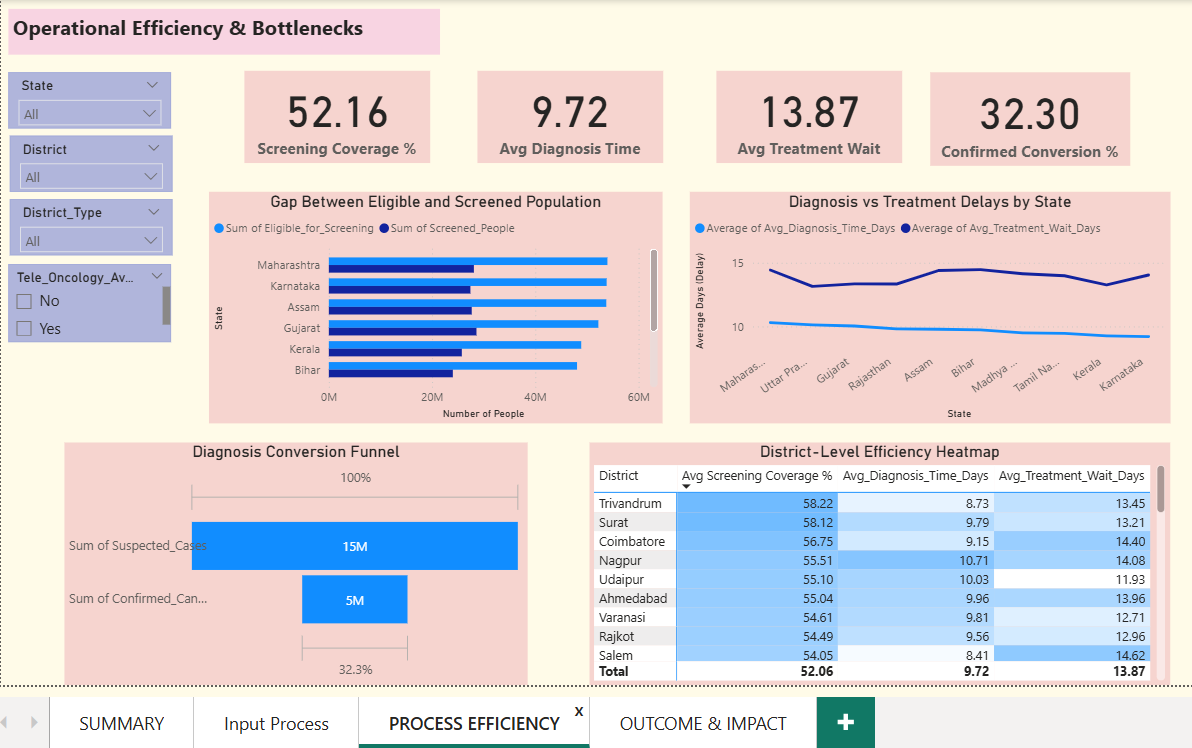

The dashboard page shown, as its layout file describes it:
{"tool":"powerbi","page":{"name":"PROCESS EFFICIENCY","canvas":[1280,720],"ordinal":2},"visuals":[{"type":"slicer","fields":{"Values":["Sheet1.State"]},"box":[8.2,76.4,171,59.1],"z":0},{"type":"slicer","fields":{"Values":["Sheet1.District"]},"box":[9.1,142.7,171,59.1],"z":1},{"type":"slicer","fields":{"Values":["Sheet1.District_Type"]},"box":[9.1,210,171,59.1],"z":2},{"type":"slicer","fields":{"Values":["Sheet1.Tele_Oncology_Available"]},"box":[8.2,278.2,171,81.8],"z":3},{"type":"textbox","box":[8.3,9.2,453.3,48.3],"z":5},{"type":"card","fields":{"Values":["Sheet1.Screening Coverage %"]},"box":[255,75,195,96.7],"z":6},{"type":"card","fields":{"Values":["Sheet1.Avg Diagnosis Time"]},"box":[500,75,195,96.7],"z":7},{"type":"card","fields":{"Values":["Sheet1.Avg Treatment Wait"]},"box":[751.7,75,195,96.7],"z":8},{"type":"card","fields":{"Values":["Sheet1.Confirmed Conversion %"]},"box":[976,76,210,98],"z":9},{"type":"clusteredBarChart","title":"Gap Between Eligible and Screened Population","fields":{"Category":["Sheet1.State"],"Y":["Sum(Sheet1.Eligible_for_Screening)","Sum(Sheet1.Screened_People)"]},"box":[218.3,201.7,476.7,243.3],"z":11},{"type":"lineChart","title":"Diagnosis vs Treatment Delays by State","fields":{"Category":["Sheet1.State"],"Y":["Avg(Sheet1.Avg_Diagnosis_Time_Days)","Avg(Sheet1.Avg_Treatment_Wait_Days)"]},"box":[723.3,201.7,505,243.3],"z":12},{"type":"funnel","title":"Diagnosis Conversion Funnel","fields":{"Y":["Sum(Sheet1.Suspected_Cases)","Sum(Sheet1.Confirmed_Cancer)"]},"box":[66.7,465,486.7,255],"z":13},{"type":"pivotTable","title":"District-Level Efficiency Heatmap","fields":{"Rows":["Sheet1.District"],"Values":["Avg(Sheet1.Screening_Coverage_percent)","Avg(Sheet1.Avg_Diagnosis_Time_Days)","Avg(Sheet1.Avg_Treatment_Wait_Days)"]},"box":[618.3,465,610,255],"z":14}]}

Visuals, with their boxes on the page's 1280x720 design canvas (x1, y1, x2, y2). These are canvas units, not pixel positions in the 1192x748 screenshot, which may show the page scaled, cropped or inside an application window:
slicer - Sheet1.State: [8,76,179,136]
slicer - Sheet1.District: [9,143,180,202]
slicer - Sheet1.District_Type: [9,210,180,269]
slicer - Sheet1.Tele_Oncology_Available: [8,278,179,360]
textbox: [8,9,462,58]
card - Sheet1.Screening Coverage %: [255,75,450,172]
card - Sheet1.Avg Diagnosis Time: [500,75,695,172]
card - Sheet1.Avg Treatment Wait: [752,75,947,172]
card - Sheet1.Confirmed Conversion %: [976,76,1186,174]
"Gap Between Eligible and Screened Population" clusteredBarChart: [218,202,695,445]
"Diagnosis vs Treatment Delays by State" lineChart: [723,202,1228,445]
"Diagnosis Conversion Funnel" funnel: [67,465,553,720]
"District-Level Efficiency Heatmap" pivotTable: [618,465,1228,720]
